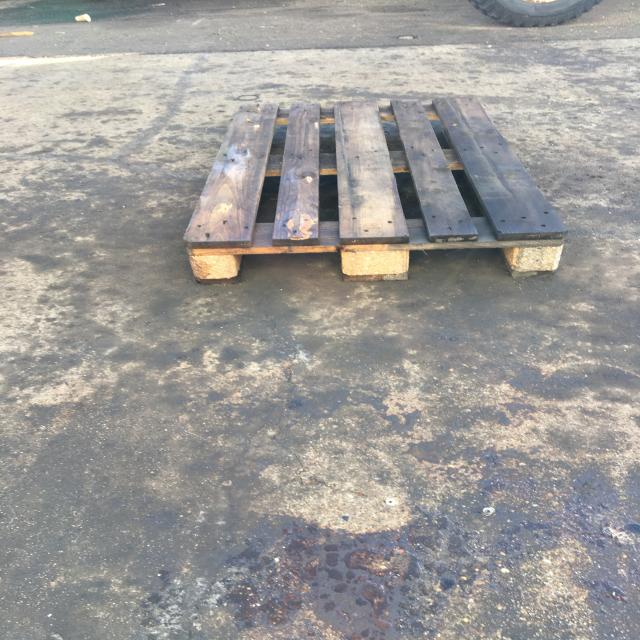block: (340, 243, 413, 284), (509, 240, 570, 276), (187, 245, 242, 284)
front: (180, 242, 578, 282)
